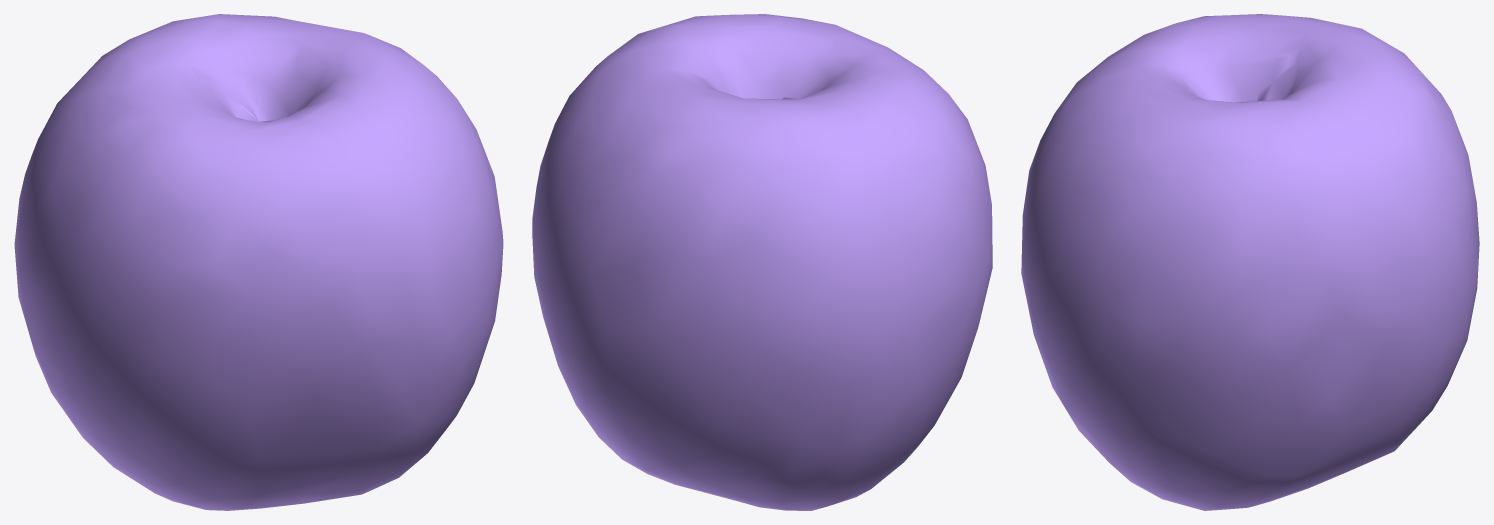
The model's file is nr-apple-6.glb.
3 views of the same model, side by side, from view 1: azimuth 30°, elevation 25°; view 2: azimuth 150°, elevation 25°; view 3: azimuth 270°, elevation 25° (orthographic).
Parts seen in each view (by area): view 1: nr-apple-6-0; view 2: nr-apple-6-0; view 3: nr-apple-6-0.
Part boxes in pixels (x1,y1,x2,y2): nr-apple-6-0: [14, 14, 503, 510]; nr-apple-6-0: [532, 14, 992, 510]; nr-apple-6-0: [1021, 14, 1479, 510].
Size of the model in its own units: 1 by 0.9715 by 0.9804.
